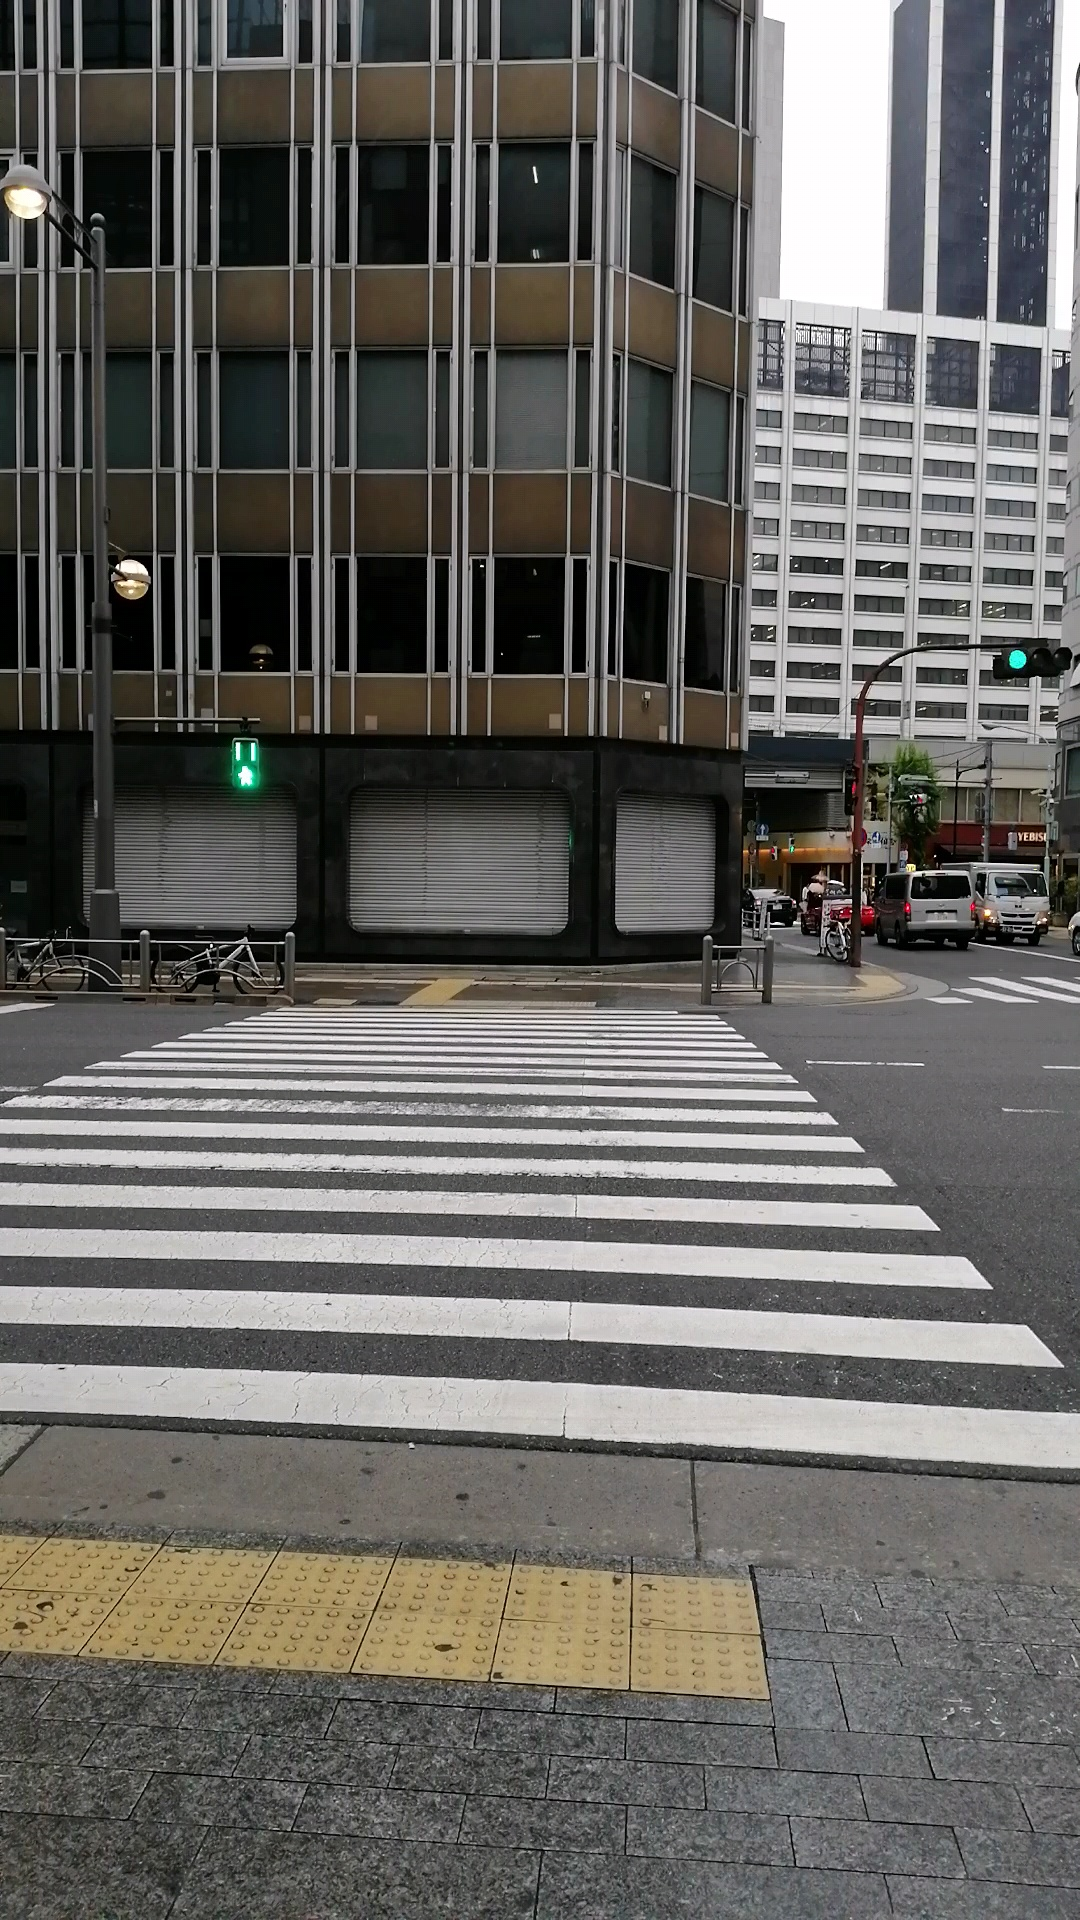green: (229, 736, 260, 793)
